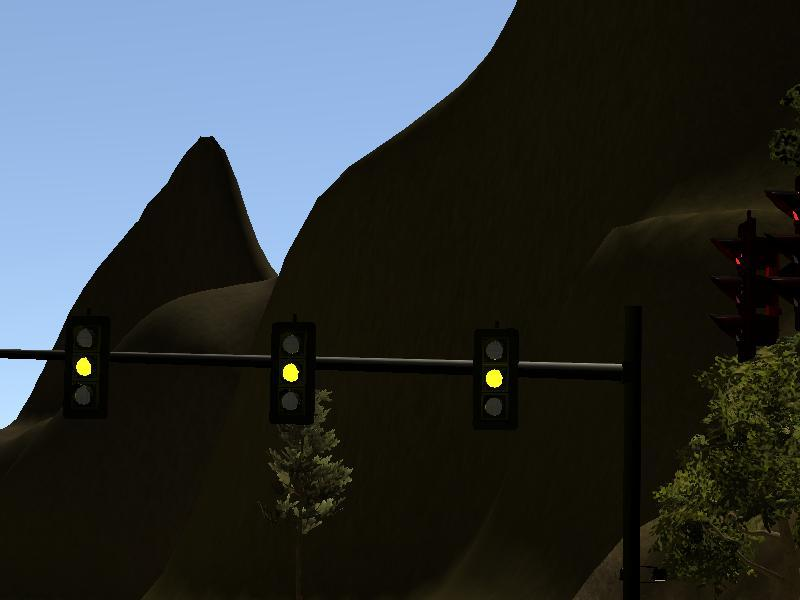Yellow: (472, 328, 519, 428), (272, 322, 316, 424), (64, 318, 106, 419)
